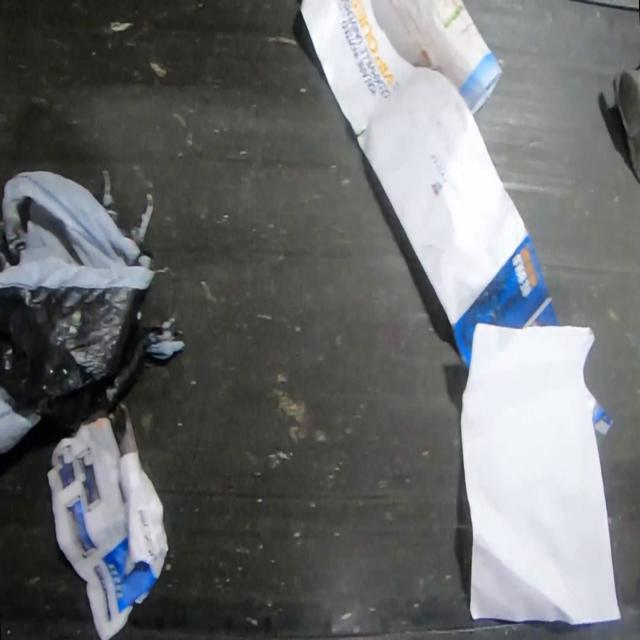rigid_plastic: (610, 59, 640, 190)
soft_plastic: (0, 169, 185, 454)
